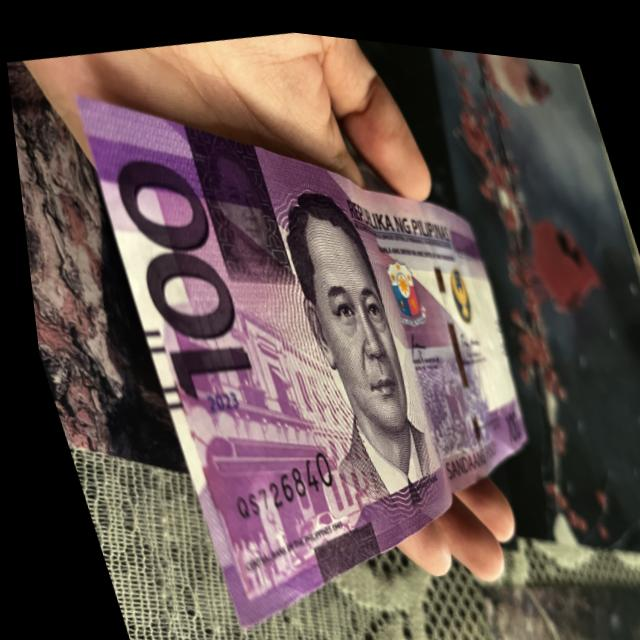concealed_value: (181, 118, 295, 283)
serial_number: (188, 415, 343, 539)
value: (91, 128, 262, 411)
